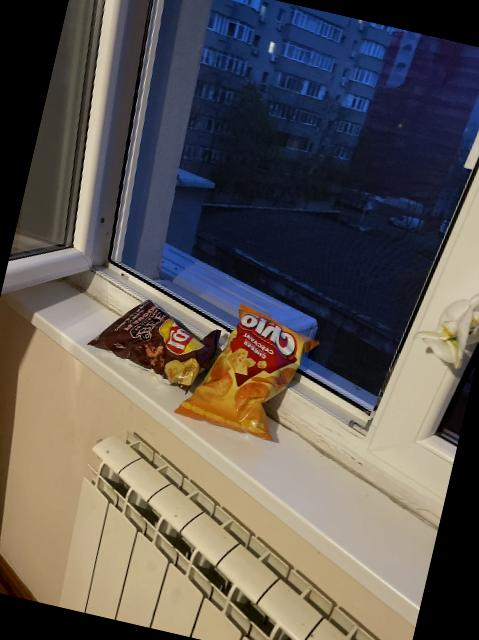Chio Cascaval 125g: (171, 295, 321, 445)
Lays Beef Grilled Ribs 125g: (87, 290, 224, 398)
